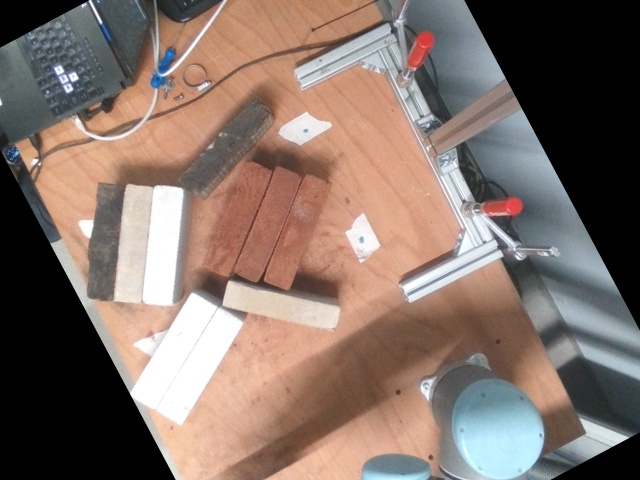brick-side: (156, 309, 242, 424), (130, 295, 213, 409), (179, 97, 271, 194), (234, 166, 300, 280), (264, 175, 329, 288), (207, 164, 270, 275), (222, 283, 336, 330), (143, 188, 180, 304), (114, 186, 149, 302), (88, 184, 120, 299)
